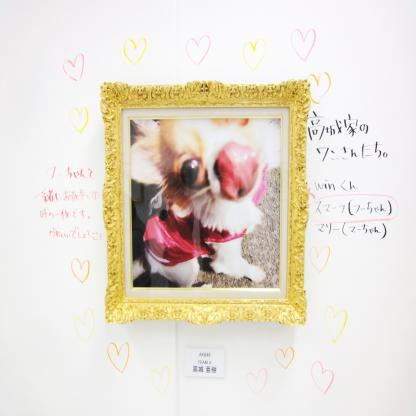picture frame: (107, 79, 328, 363)
